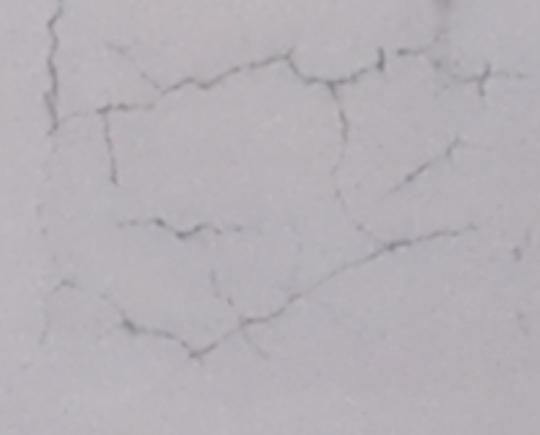fissura: (40, 0, 528, 370)
